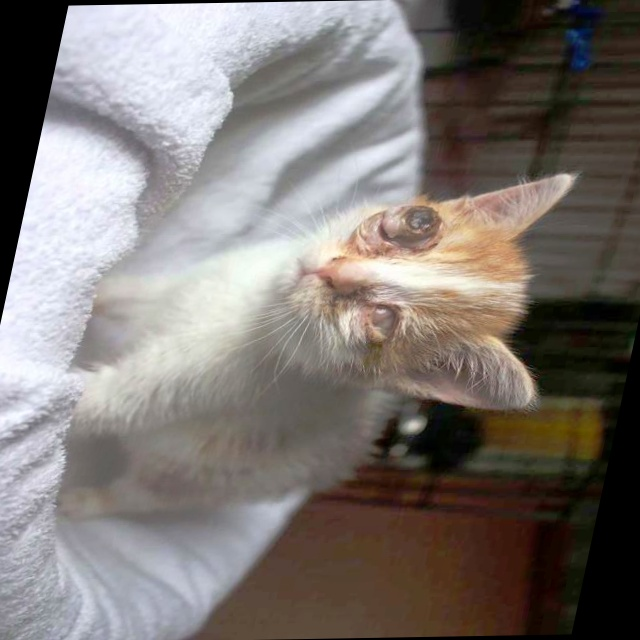eye_infection: (383, 206, 437, 252), (355, 304, 403, 344)
